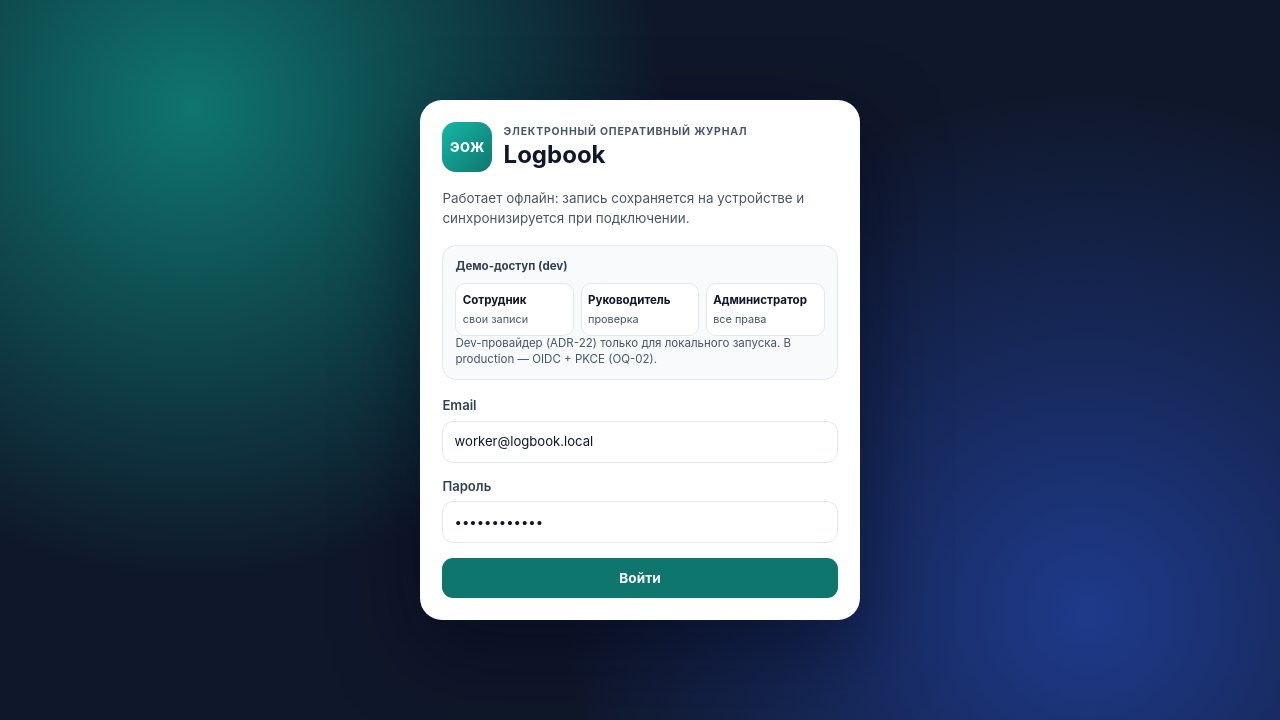
LoginScreen › shows an accessible error for invalid credentials
What coordinates should you click on to do the following:
click the button "Войти"
I would click on:
 (640, 578)
Its box is [442,558,838,598].
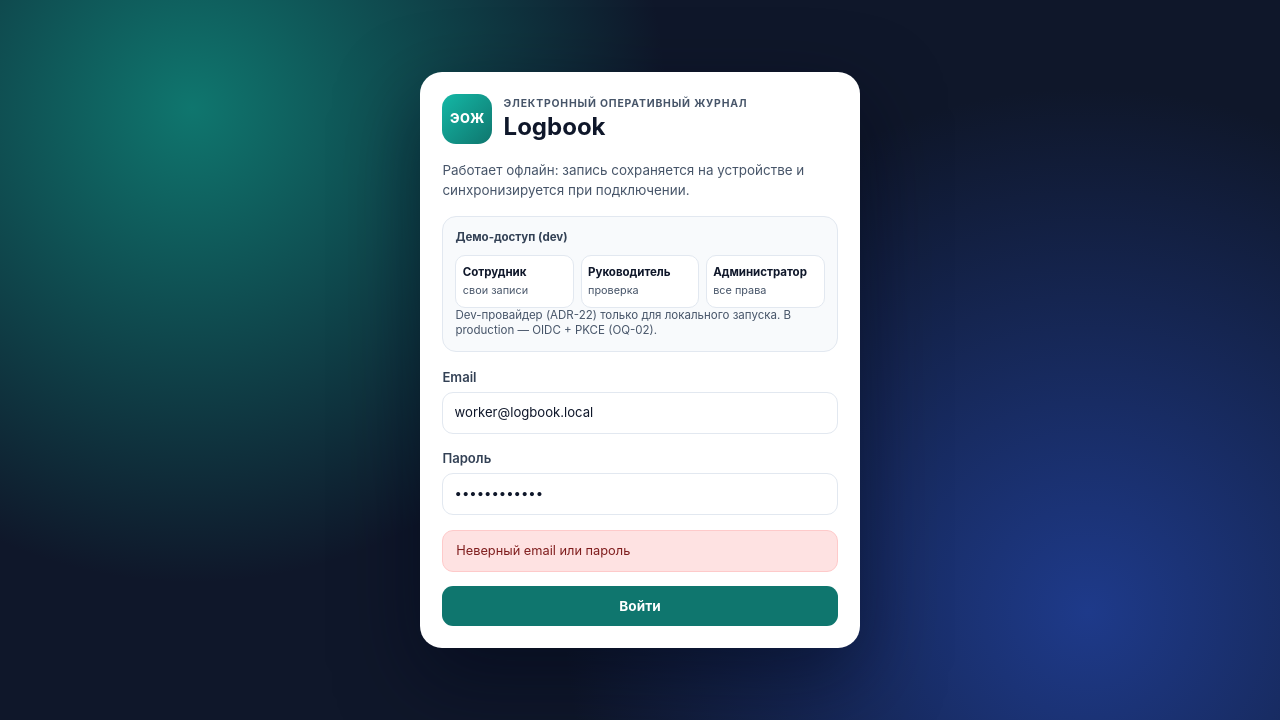
Now the message reads "Неверный email или пароль", box [456,543,630,558]
